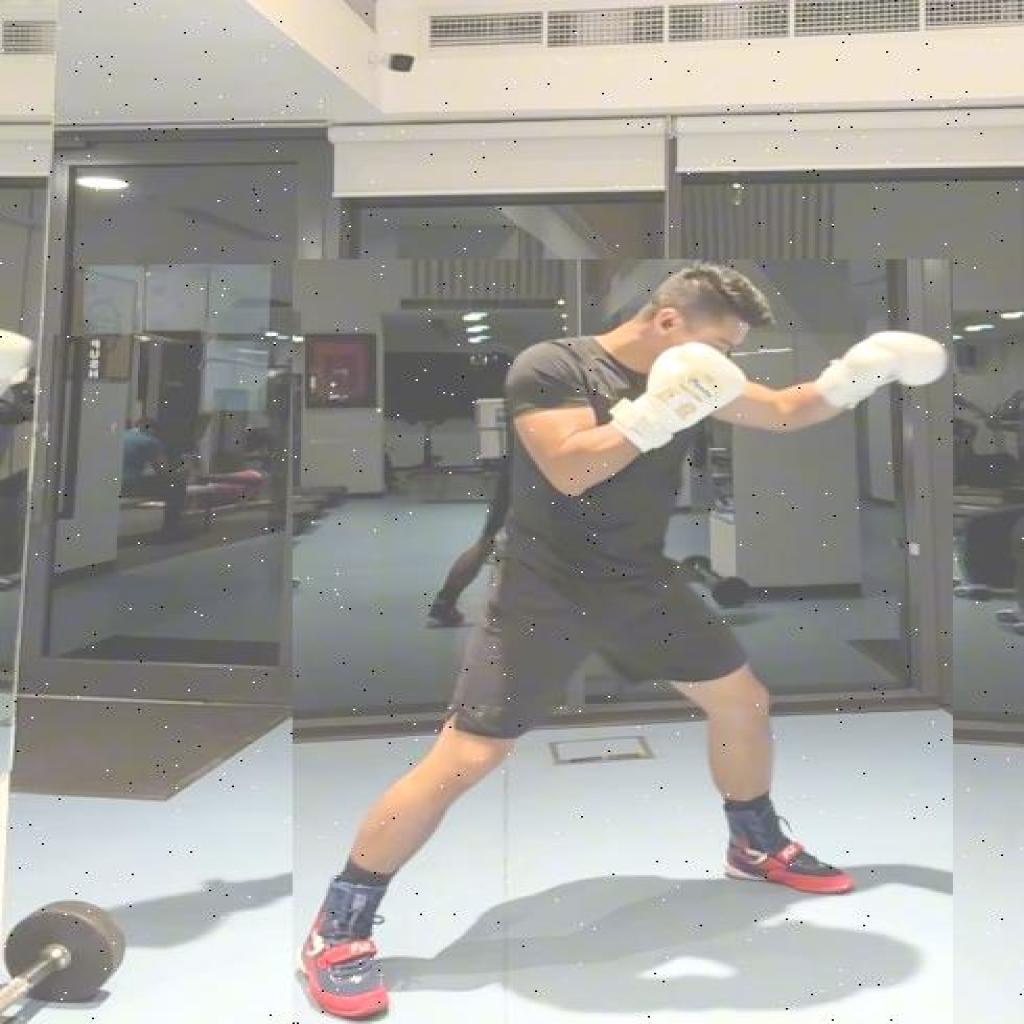jab: (292, 259, 952, 1023)
